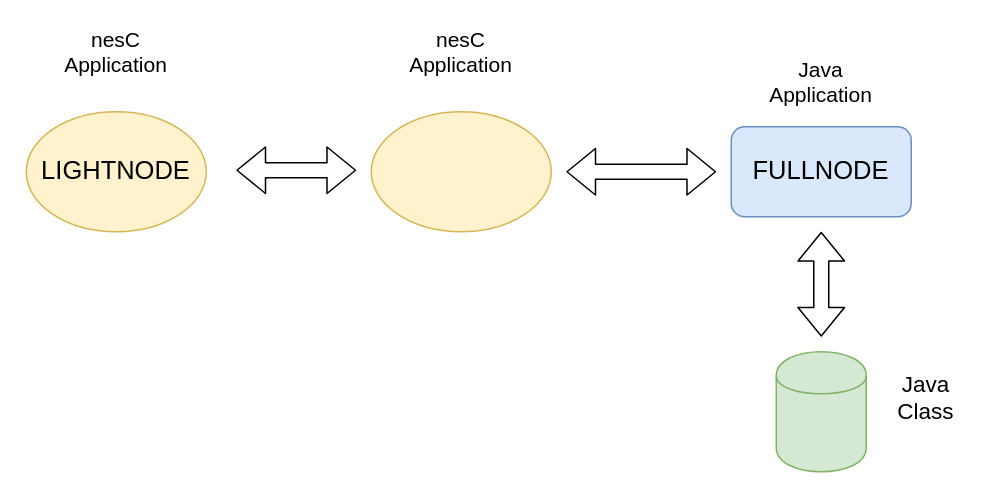
Image size: 983x498. Some labels were removed from this diagram. The shapes that lost their labels are listed below. From the top down, each one's centre as x and y in pixels, then its label:
[460,171]: BASESTATION
[820,411]: DAG
